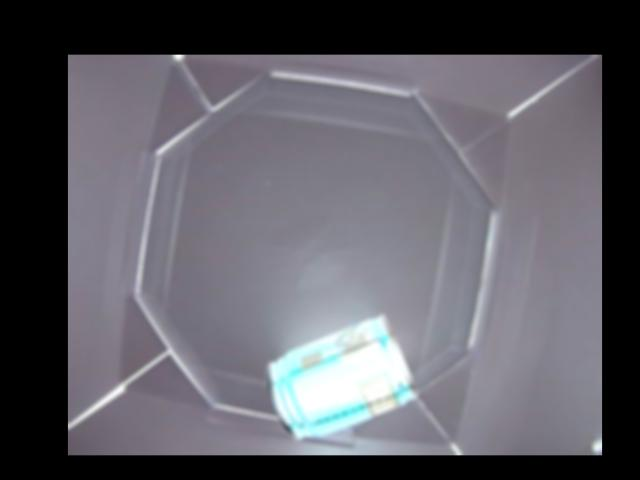Bottle: (262, 314, 419, 443)
